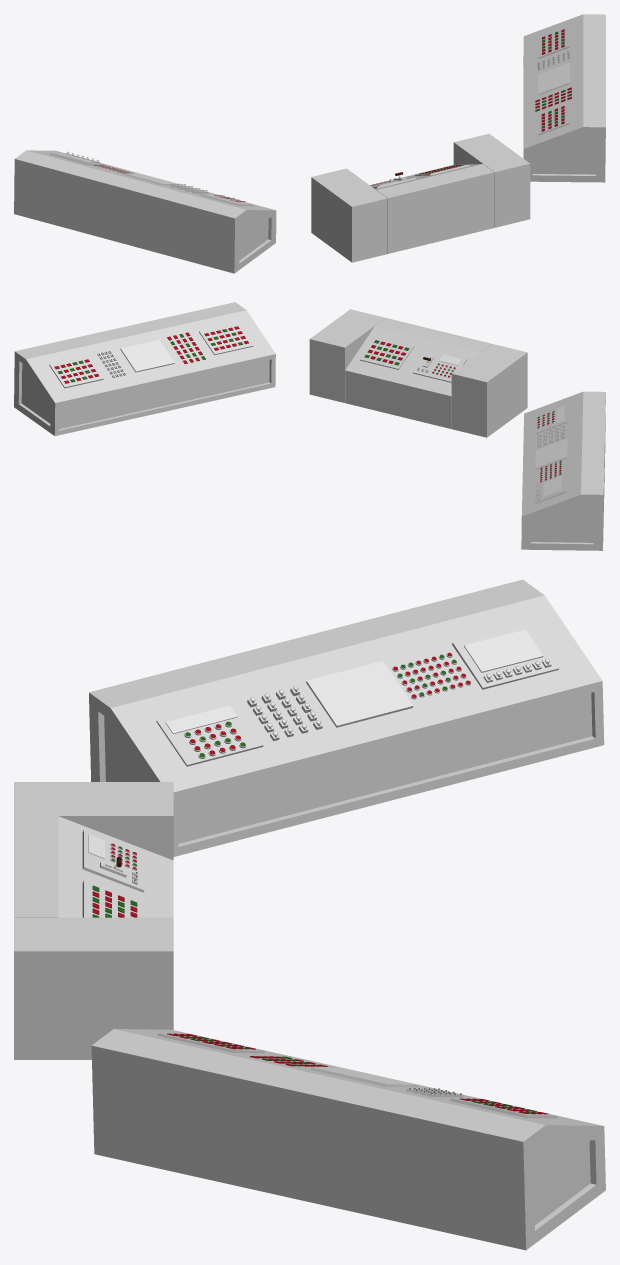
File: ControlPanel.fbx
3 views of the same model, one above another, from view 1: azimuth 30°, elevation 25°; view 2: azimuth 150°, elevation 25°; view 3: azimuth 270°, elevation 25° (orthographic). The views are drawn at different scales.
Parts seen in each view (by area): view 1: Cube.029, Cube.004, Cube.007; view 2: Cube.007, Cube.004, Cube.029; view 3: Cube.029, Cube.007, Cube.004.
Part boxes in pixels (x1,y1,x2,y2): Cube.029: (14,150,276,273); Cube.004: (311,133,530,262); Cube.007: (523,14,605,182); Cube.007: (14,302,275,435); Cube.004: (309,309,527,437); Cube.029: (521,391,605,550); Cube.029: (89,579,604,856); Cube.007: (91,1029,605,1250); Cube.004: (14,782,173,1059).
Bounding box in the file's own units: 1667 × 163 × 741.
